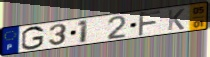1: (77, 19, 90, 44)
2: (106, 15, 127, 41)
3: (47, 23, 68, 47)
F: (137, 9, 163, 37)
G: (20, 25, 46, 51)
K: (166, 8, 186, 32)
